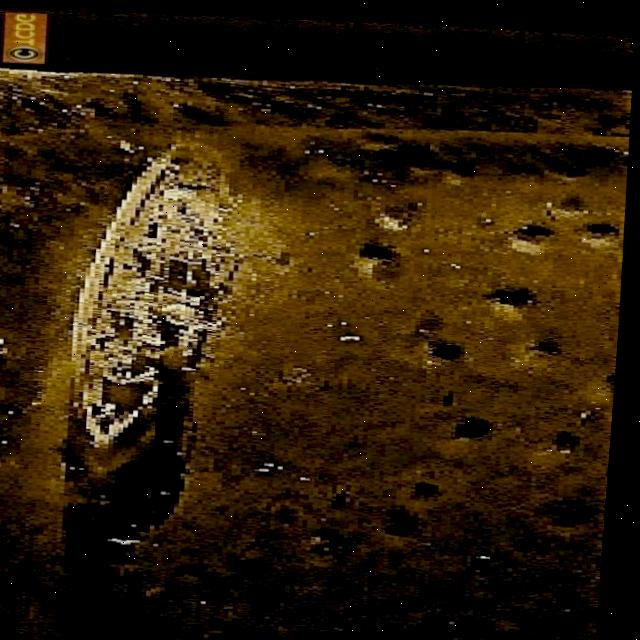shipwreck: (63, 132, 255, 453)
